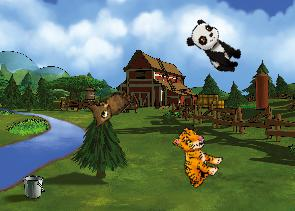owl: (82, 78, 134, 131)
panda: (182, 16, 248, 78)
tiger: (159, 123, 229, 192)
